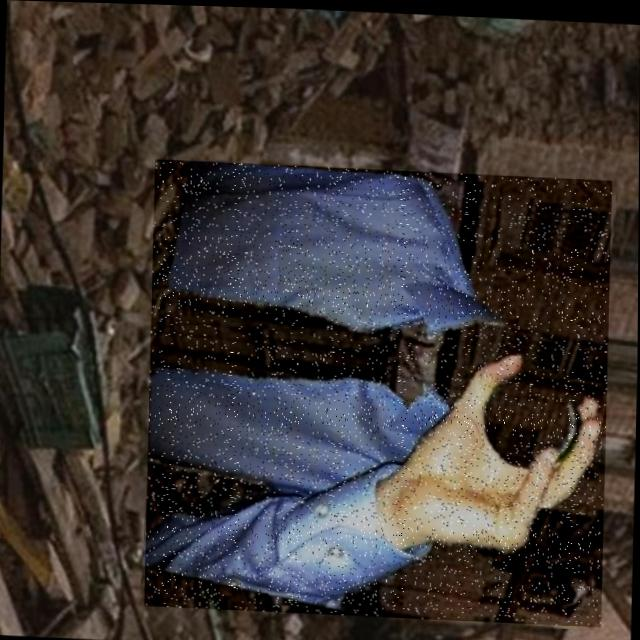Person in Rubble: (143, 157, 611, 623)
